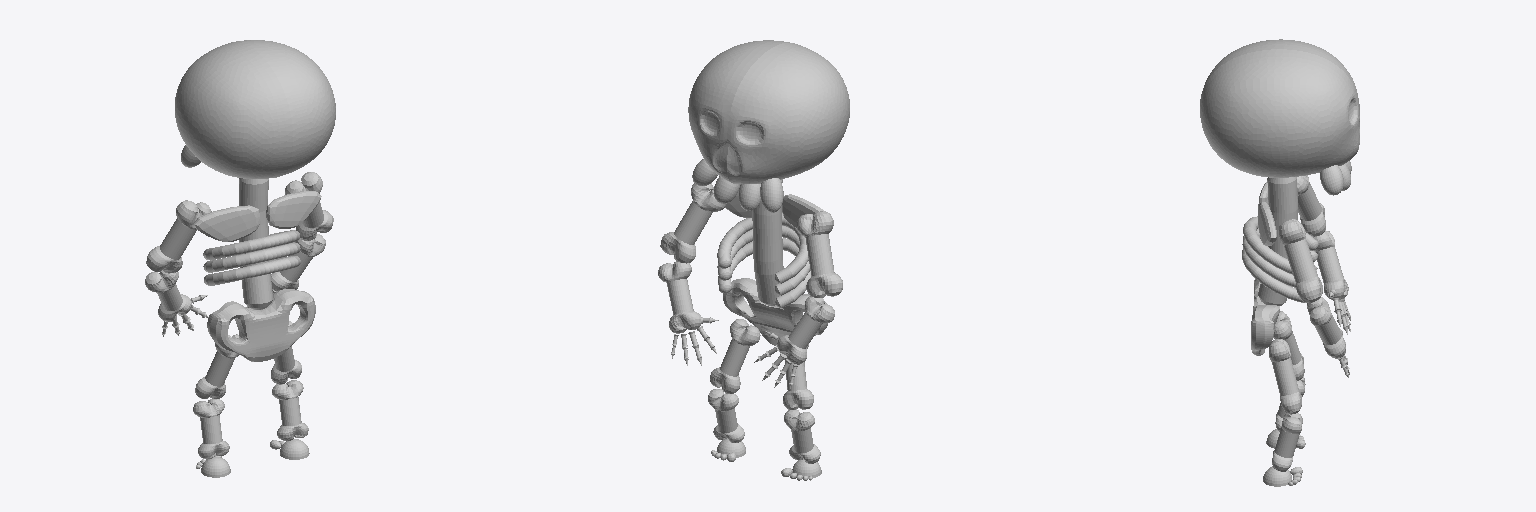
Rendered from skeleton.obj.
3 renders of one model, left to right at view 1: azimuth 30°, elevation 25°; view 2: azimuth 150°, elevation 25°; view 3: azimuth 270°, elevation 25°, orthographic.
Parts seen in each view (by area): view 1: RiggedHead_Sphere.002, RiggedPelvis_Sphere.038, RiggedRibs_Sphere.021, RiggedSpine_Sphere.001, RiggedBicep.L_Sphere.005, RiggedShoulder.L_Sphere.004, RiggedShoulder.R_Sphere.003, RiggedShin.L_Sphere.041, RiggedShin.R_Sphere.042, RiggedForearm.L_Sphere.006, RiggedBicep.R_Sphere.022, RiggedThigh.L_Sphere.040 (+4 smaller); view 2: RiggedHead_Sphere.002, RiggedRibs_Sphere.021, RiggedPelvis_Sphere.038, RiggedSpine_Sphere.001, RiggedBicep.L_Sphere.005, RiggedBicep.R_Sphere.022, RiggedTricep.R_Sphere.023, RiggedThigh.R_Sphere.039, RiggedForearm.L_Sphere.006, RiggedShin.L_Sphere.041, RiggedShin.R_Sphere.042, RiggedThigh.L_Sphere.040 (+2 smaller); view 3: RiggedHead_Sphere.002, RiggedRibs_Sphere.021, RiggedBicep.R_Sphere.022, RiggedSpine_Sphere.001, RiggedThigh.R_Sphere.039, RiggedForearm.L_Sphere.006, RiggedTricep.R_Sphere.023, RiggedPelvis_Sphere.038, RiggedBicep.L_Sphere.005, RiggedShin.R_Sphere.042, RiggedThigh.L_Sphere.040, RiggedShoulder.R_Sphere.003 (+1 smaller).
Part boxes in pixels (x1,y1,x2,y2): RiggedHead_Sphere.002: (175,40,335,178); RiggedPelvis_Sphere.038: (207,289,315,361); RiggedRibs_Sphere.021: (203,230,300,285); RiggedSpine_Sphere.001: (239,178,272,309); RiggedBicep.L_Sphere.005: (146,200,211,273); RiggedShoulder.L_Sphere.004: (193,205,259,241); RiggedShoulder.R_Sphere.003: (266,191,321,228); RiggedShin.L_Sphere.041: (193,399,229,458); RiggedShin.R_Sphere.042: (272,380,308,440); RiggedForearm.L_Sphere.006: (145,270,191,321); RiggedBicep.R_Sphere.022: (285,172,333,240); RiggedThigh.L_Sphere.040: (195,334,238,398); RiggedHead_Sphere.002: (688,40,849,212); RiggedRibs_Sphere.021: (717,213,810,308); RiggedPelvis_Sphere.038: (723,278,827,345); RiggedSpine_Sphere.001: (752,179,783,305); RiggedBicep.L_Sphere.005: (797,211,842,297); RiggedBicep.R_Sphere.022: (660,183,725,263); RiggedTricep.R_Sphere.023: (658,261,701,333); RiggedThigh.R_Sphere.039: (710,319,760,393); RiggedForearm.L_Sphere.006: (777,296,834,364); RiggedShin.L_Sphere.041: (784,409,820,463); RiggedShin.R_Sphere.042: (708,389,744,442); RiggedThigh.L_Sphere.040: (779,344,813,409); RiggedHead_Sphere.002: (1200,39,1359,195); RiggedRibs_Sphere.021: (1242,216,1318,302); RiggedBicep.R_Sphere.022: (1279,219,1322,302); RiggedSpine_Sphere.001: (1258,177,1297,305); RiggedThigh.R_Sphere.039: (1269,339,1301,414); RiggedForearm.L_Sphere.006: (1313,230,1348,299); RiggedTricep.R_Sphere.023: (1307,297,1345,358); RiggedPelvis_Sphere.038: (1251,278,1279,355); RiggedBicep.L_Sphere.005: (1297,175,1325,236); RiggedShin.R_Sphere.042: (1272,413,1302,471); RiggedThigh.L_Sphere.040: (1273,311,1304,380); RiggedShoulder.R_Sphere.003: (1258,202,1276,245).
Bounding box in the file's own units: 1.1 × 2.38 × 0.8395.